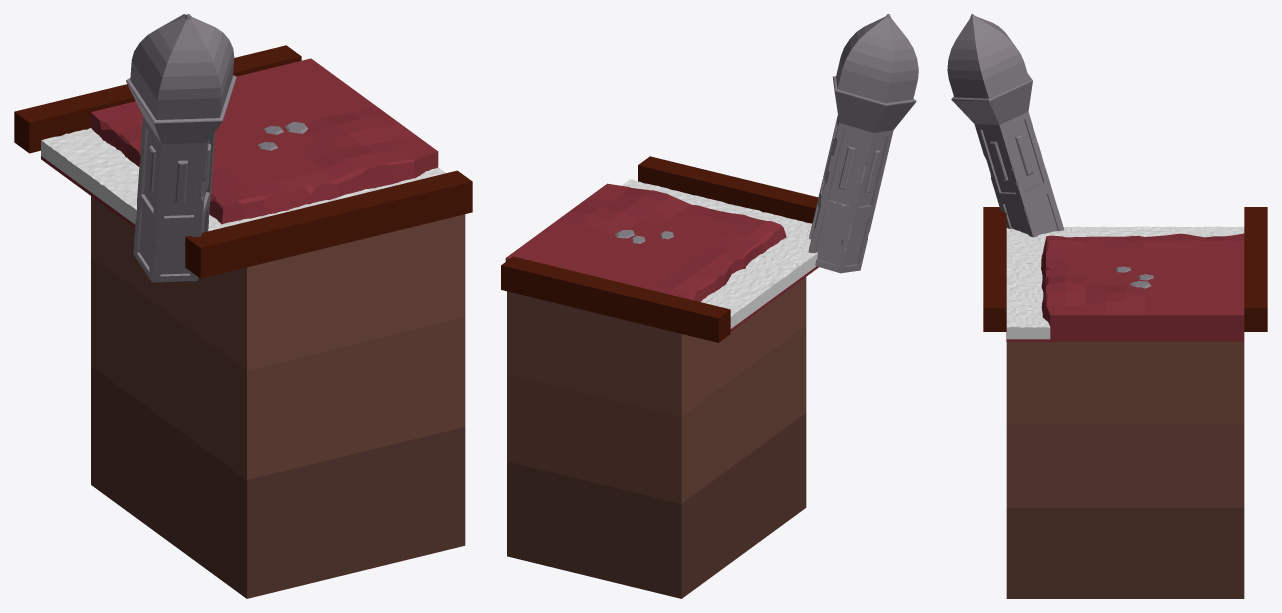
The model's file is Plano9.fbx.
The picture shows the model from 3 angles, left to right: view 1: azimuth 30°, elevation 25°; view 2: azimuth 150°, elevation 25°; view 3: azimuth 270°, elevation 25°; orthographic projection. The views are drawn at different scales.
Parts seen in each view (by area): view 1: Plane.002, Plane.045, torre, Cube.1719, Plane.046, Plane.047; view 2: Plane.002, Plane.045, torre, Cube.1719, Plane.046, Plane.047; view 3: Plane.002, Plane.045, torre, Cube.1719, Plane.047, Plane.046.
Boxes of the visible parts, x1,y1,x2,y2 form: Plane.002: (91, 196, 465, 598); Plane.045: (41, 58, 438, 227); torre: (126, 14, 236, 282); Cube.1719: (14, 45, 472, 278); Plane.046: (41, 128, 275, 229); Plane.047: (208, 167, 446, 231); Plane.002: (507, 277, 806, 598); Plane.045: (505, 183, 818, 331); torre: (808, 14, 918, 273); Cube.1719: (501, 156, 818, 342); Plane.046: (701, 213, 817, 328); Plane.047: (622, 179, 817, 277); Plane.002: (1006, 342, 1244, 598); Plane.045: (1006, 233, 1244, 341); torre: (947, 14, 1064, 237); Cube.1719: (983, 207, 1267, 331); Plane.047: (1006, 226, 1093, 339); Plane.046: (1006, 226, 1244, 263).
Size of the model in its own units: 994 by 1756 by 1076.
